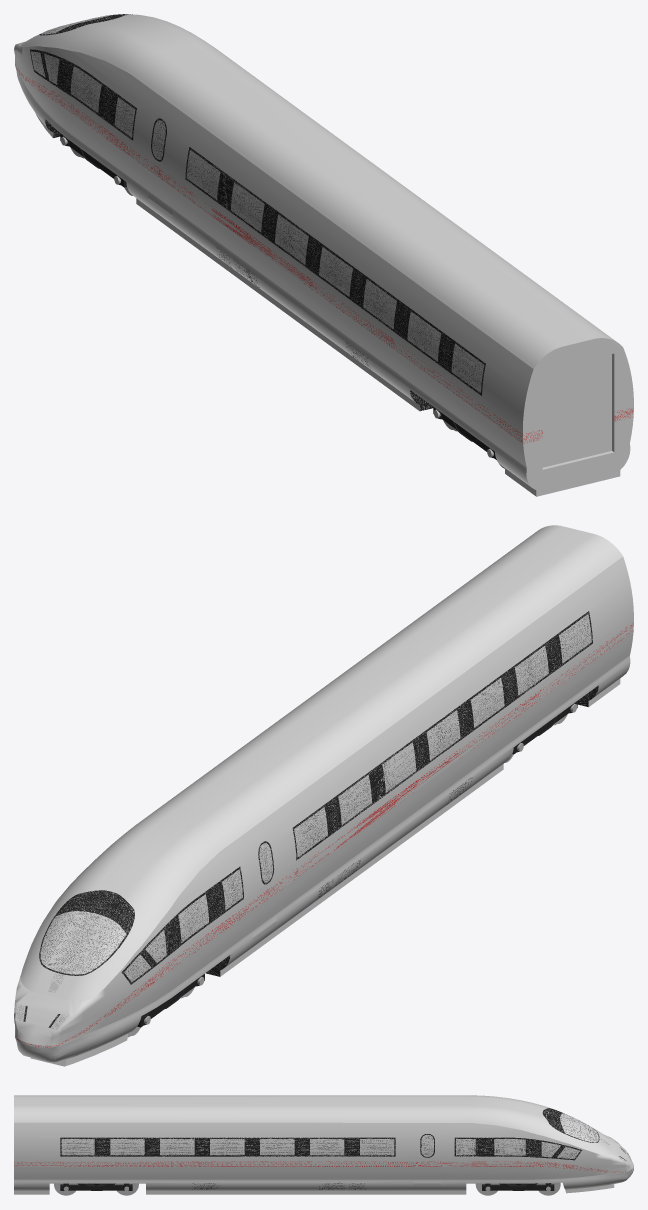
3 views of the same model, one above another, from view 1: azimuth 30°, elevation 25°; view 2: azimuth 150°, elevation 25°; view 3: azimuth 270°, elevation 25° (orthographic). The views are drawn at different scales.
Parts seen in each view (by area): view 1: mesh45_mesh45-geometry; view 2: mesh45_mesh45-geometry; view 3: mesh45_mesh45-geometry, mesh23_mesh23-geometry, mesh1_mesh1-geometry, mesh38_mesh38-geometry.
Boxes of the visible parts, x1,y1,x2,y2 form: mesh45_mesh45-geometry: (14,14,633,496); mesh45_mesh45-geometry: (14,525,633,1066); mesh45_mesh45-geometry: (14,1095,633,1194); mesh23_mesh23-geometry: (54,1182,560,1195); mesh1_mesh1-geometry: (60,1183,132,1190); mesh38_mesh38-geometry: (482,1183,554,1190).
Bounding box in the file's own units: 0.1149 × 0.1518 × 0.9817.
Materials: 7 (1 with a texture image).
